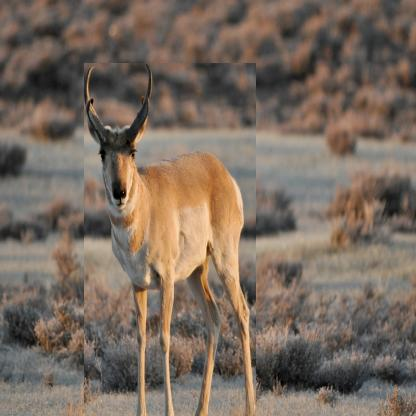Deer: (84, 63, 256, 416)
